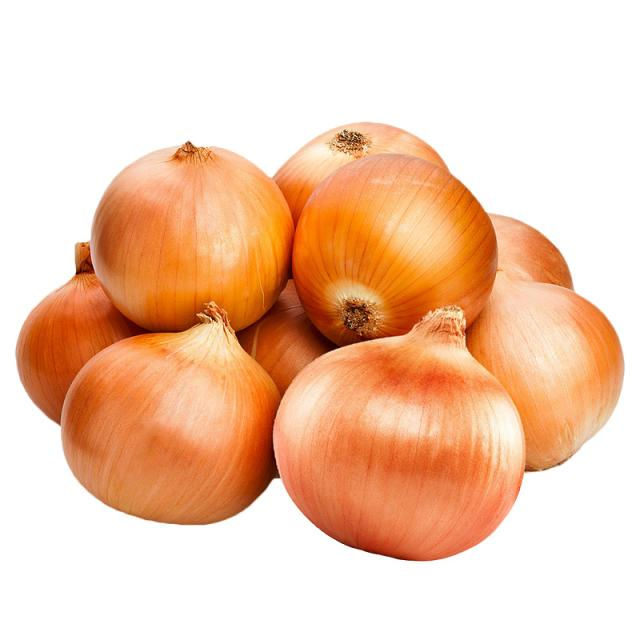onion: (266, 303, 530, 557), (59, 314, 284, 527), (291, 152, 495, 343), (93, 143, 290, 330), (467, 271, 617, 475)
